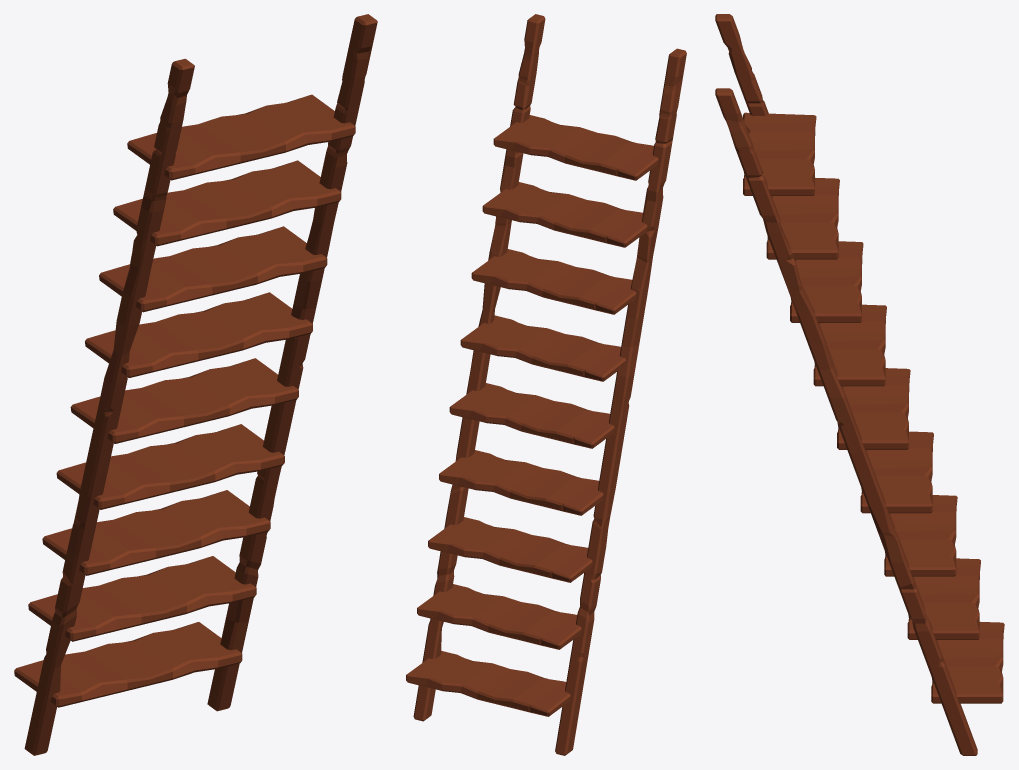
Rendered from EscaleraTex.fbx.
3 views of the same model, side by side, from view 1: azimuth 30°, elevation 25°; view 2: azimuth 150°, elevation 25°; view 3: azimuth 270°, elevation 25° (orthographic). The views are drawn at different scales.
Visible parts, largest first — view 1: Plane.002; view 2: Plane.002; view 3: Plane.002.
Boxes of the visible parts, x1,y1,x2,y2 form: Plane.002: (14, 14, 377, 755); Plane.002: (406, 14, 686, 755); Plane.002: (715, 14, 1004, 755).
Bounding box in the file's own units: 424 × 1629 × 644.
